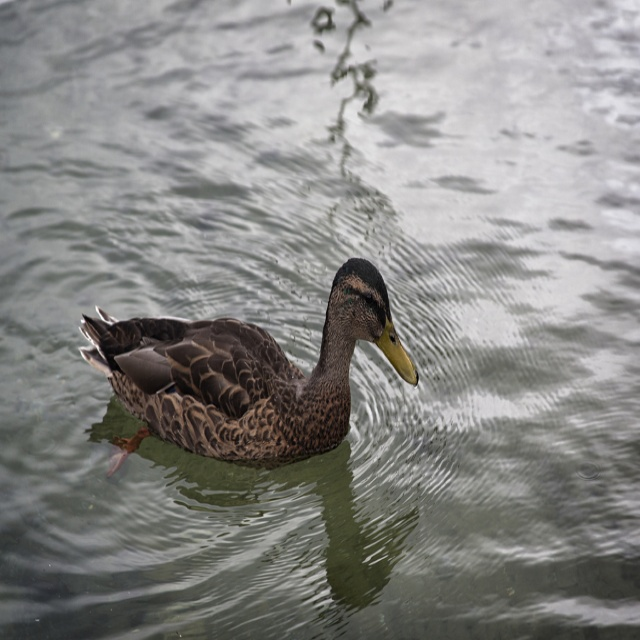Duck: (78, 256, 419, 480)
